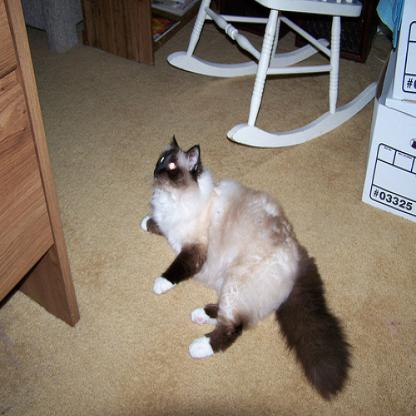cat: (141, 135, 348, 400)
chair: (168, 0, 379, 149)
